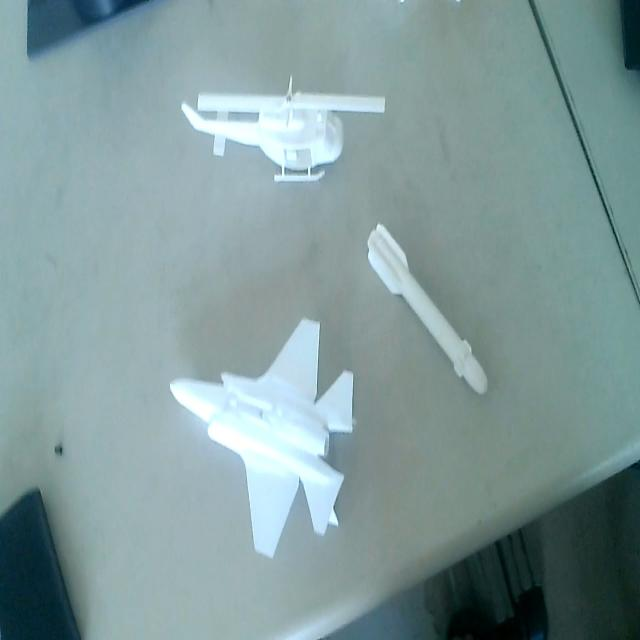Helicopter: (180, 75, 386, 192)
Jet: (168, 318, 358, 561)
Rocket: (363, 217, 491, 397)
